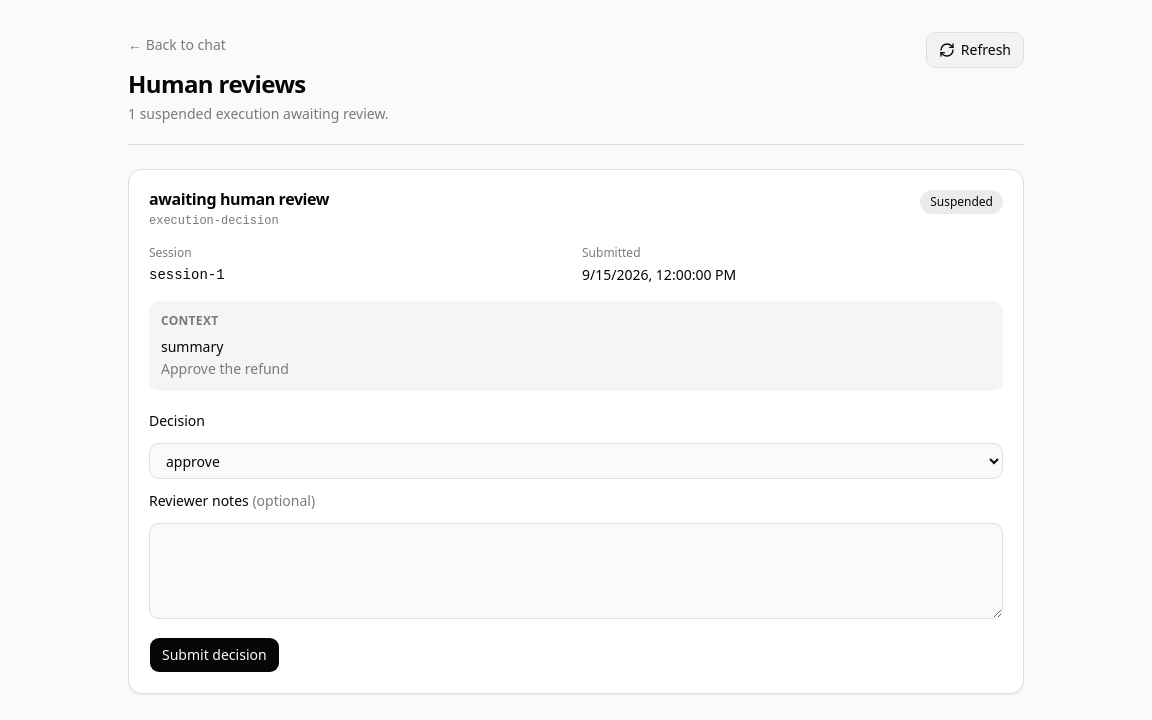
Test: Reviews › submits a decision and removes the resolved review
Select "reject" in the dropdown labelled "Decision" at (576, 461), box 149,443 -> 1003,479
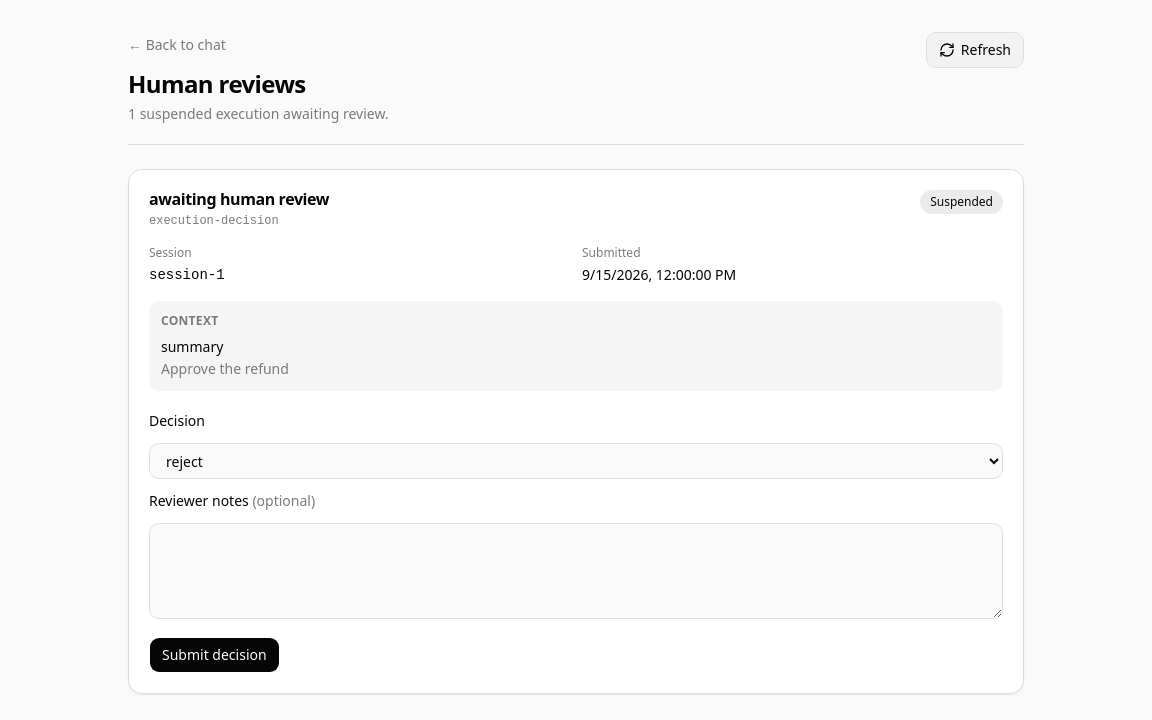
Type "Needs correction" into the text box labelled "Reviewer notes (optional)".
click(576, 571); type("Needs correction")  # box 149,523 -> 1003,619
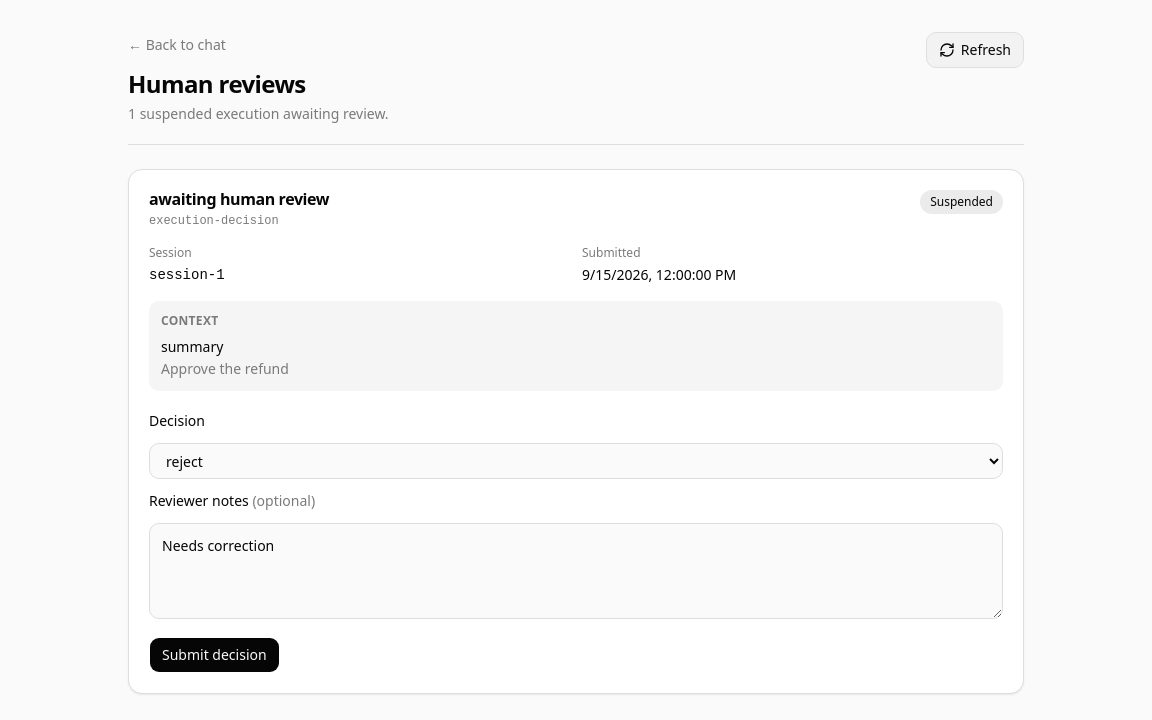
Click the button "Submit decision".
click(214, 655)  # box 149,637 -> 280,673
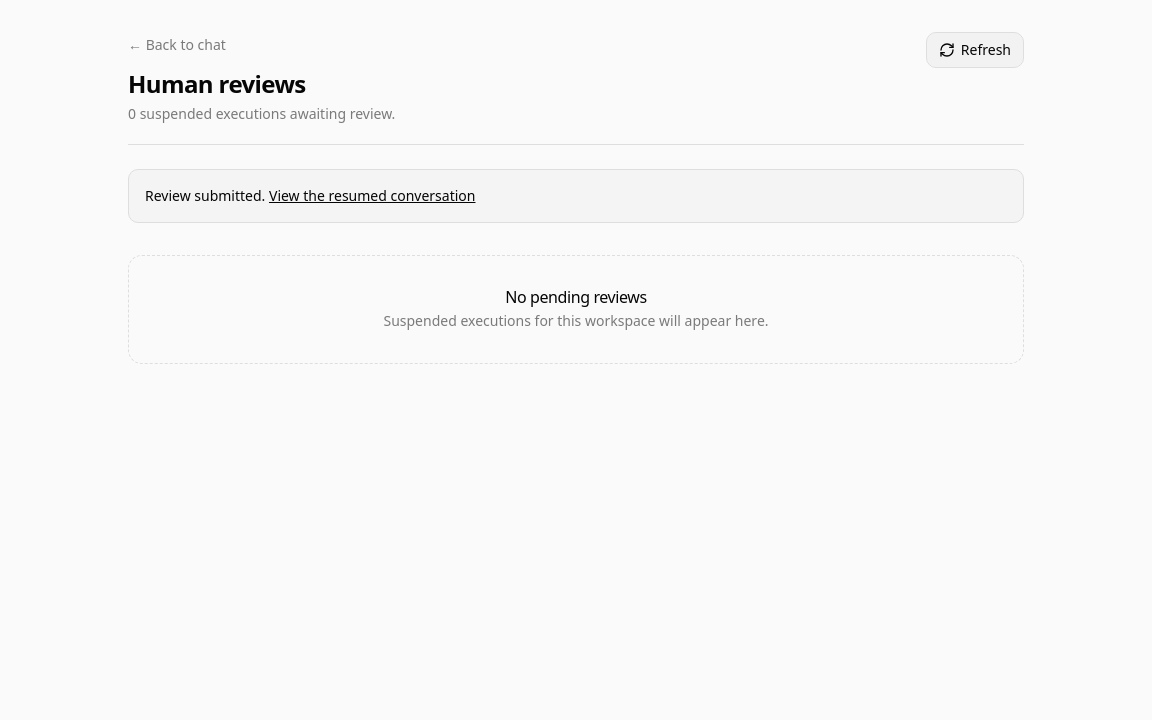
Now the text "Approve the refund" is gone
